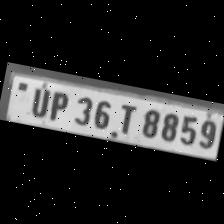3: (68, 91, 96, 127)
5: (176, 113, 200, 148)
6: (88, 94, 116, 132)
8: (136, 104, 164, 141), (156, 108, 181, 144)
9: (194, 116, 219, 151)
P: (44, 88, 72, 123)
T: (110, 98, 140, 136)
U: (24, 83, 52, 118)
